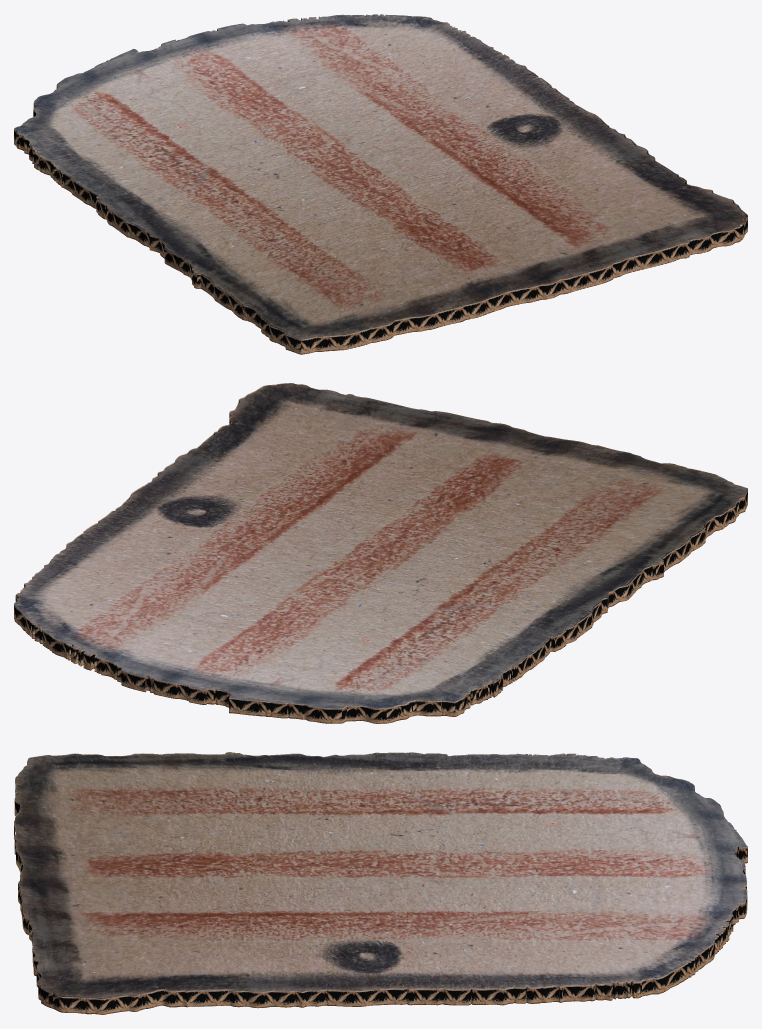
The model's file is Puerta.fbx.
The picture shows the model from 3 angles, top to bottom: view 1: azimuth 30°, elevation 25°; view 2: azimuth 150°, elevation 25°; view 3: azimuth 270°, elevation 25°; orthographic projection. The views are drawn at different scales.
Parts seen in each view (by area): view 1: Puerta; view 2: Puerta; view 3: Puerta.
Boxes of the visible parts, box(x1,y1,x2,y2) form: Puerta: box(14, 14, 747, 354); Puerta: box(14, 383, 747, 723); Puerta: box(14, 752, 747, 1014).
Bounding box in the file's own units: 3.34 × 0.1 × 4.19.
